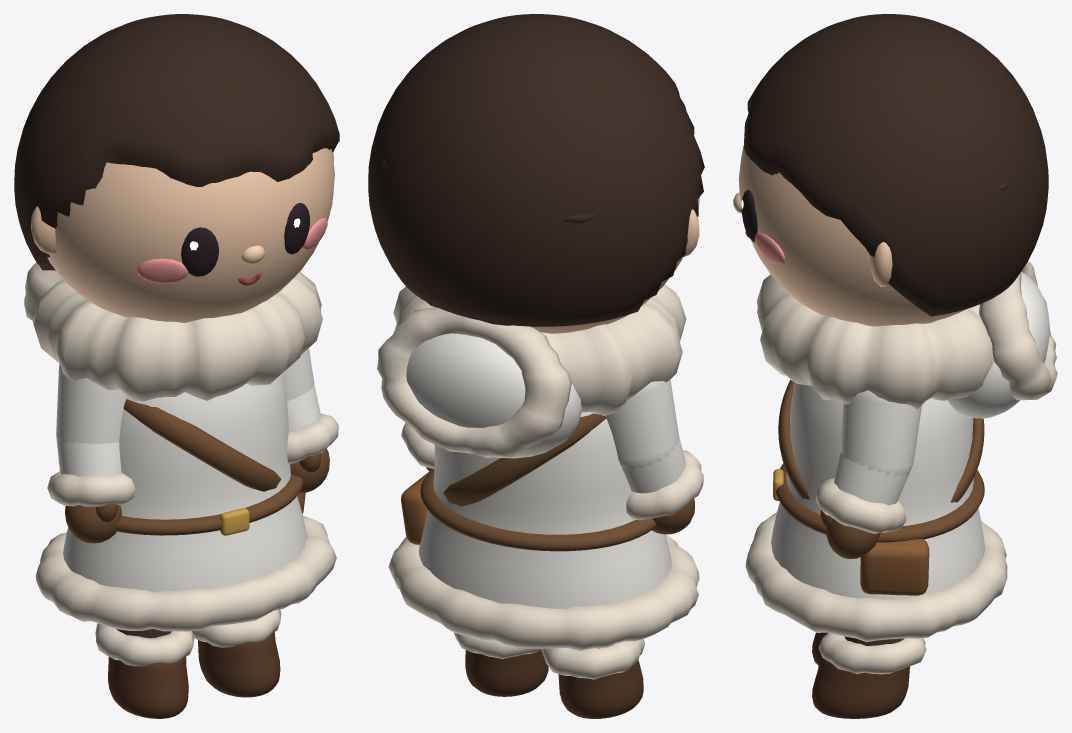
File: player.glb
3 renders of one model, left to right at view 1: azimuth 30°, elevation 25°; view 2: azimuth 150°, elevation 25°; view 3: azimuth 270°, elevation 25°, orthographic. The views are drawn at different scales.
Parts seen in each view (by area): view 1: head_body, spine_body, chest_body, knee_R_body, knee_L_body, el_R_body, uarm_R, el_L_body, head_face_normal+face_smile, hand_R_body, hand_L_body, uarm_L; view 2: head_body, spine_body, chest_body, knee_R_body, uarm_R, el_R_body, knee_L_body, el_L_body, hand_R_body; view 3: head_body, spine_body, chest_body, knee_L_body, uarm_L, el_L_body, hand_L_body, head_face_normal+face_smile.
Boxes of the visible parts, bbox=[...] form: head_body: bbox=[14, 14, 339, 322]; spine_body: bbox=[35, 374, 336, 631]; chest_body: bbox=[24, 262, 322, 401]; knee_R_body: bbox=[95, 623, 194, 718]; knee_L_body: bbox=[192, 609, 281, 697]; el_R_body: bbox=[47, 433, 135, 506]; uarm_R: bbox=[56, 363, 126, 443]; el_L_body: bbox=[287, 384, 338, 464]; head_face_normal+face_smile: bbox=[181, 203, 309, 276]; hand_R_body: bbox=[65, 503, 121, 543]; hand_L_body: bbox=[290, 448, 329, 492]; uarm_L: bbox=[282, 348, 314, 401]; head_body: bbox=[368, 14, 704, 333]; spine_body: bbox=[388, 412, 699, 650]; chest_body: bbox=[377, 284, 686, 458]; knee_R_body: bbox=[541, 639, 644, 718]; uarm_R: bbox=[605, 379, 678, 469]; el_R_body: bbox=[618, 436, 703, 520]; knee_L_body: bbox=[454, 632, 548, 696]; el_L_body: bbox=[401, 423, 434, 468]; hand_R_body: bbox=[652, 498, 694, 534]; head_body: bbox=[733, 14, 1048, 326]; spine_body: bbox=[745, 379, 1007, 641]; chest_body: bbox=[756, 261, 1057, 418]; knee_L_body: bbox=[812, 633, 926, 718]; uarm_L: bbox=[841, 390, 921, 475]; el_L_body: bbox=[816, 452, 913, 533]; hand_L_body: bbox=[820, 510, 880, 558]; head_face_normal+face_smile: bbox=[741, 189, 757, 241].
Size of what is drawn, in the model's own units: 0.6675 by 1.38 by 0.6174.
